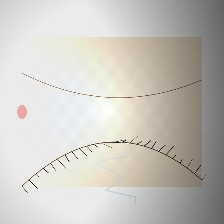foreign_body_visible: (119, 88, 162, 123)
